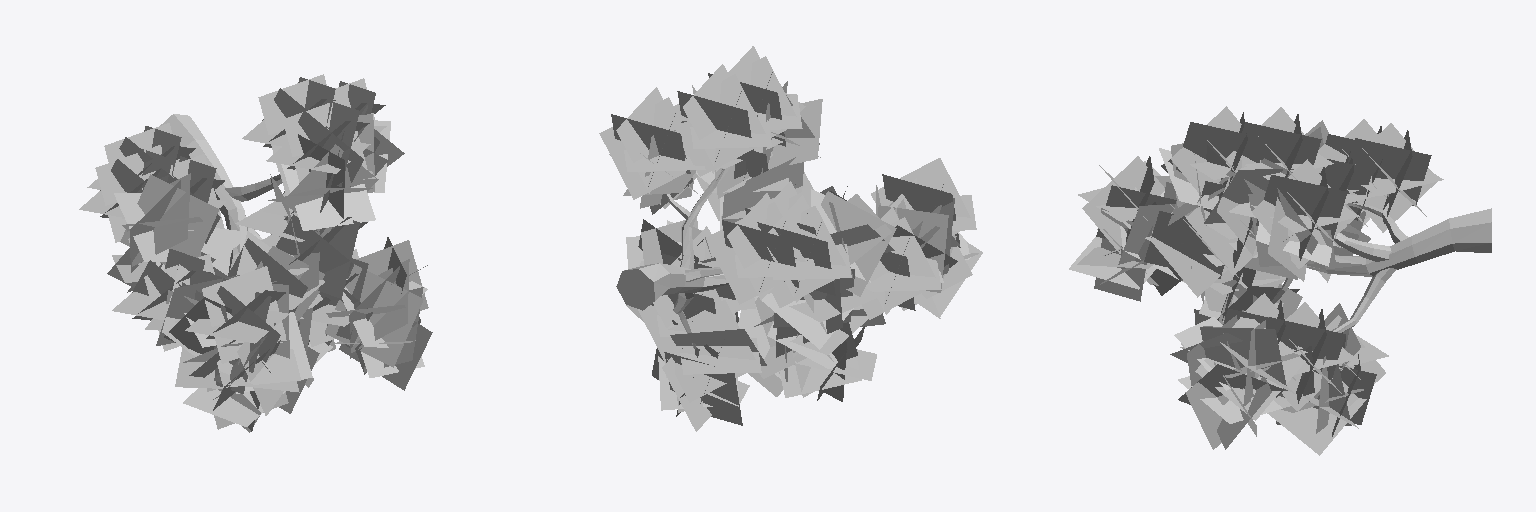
Rendered from oak_2.obj.
3 views of the same model, side by side, from view 1: azimuth 30°, elevation 25°; view 2: azimuth 150°, elevation 25°; view 3: azimuth 270°, elevation 25° (orthographic).
Parts seen in each view (by area): view 1: Imported_OBJ_Object; view 2: Imported_OBJ_Object; view 3: Imported_OBJ_Object.
Boxes of the visible parts, box(x1,y1,x2,y2) form: Imported_OBJ_Object: box(79, 74, 432, 432); Imported_OBJ_Object: box(599, 46, 982, 431); Imported_OBJ_Object: box(1069, 106, 1491, 455).
Size of the model in its own units: 15.81 by 15.62 by 18.23.